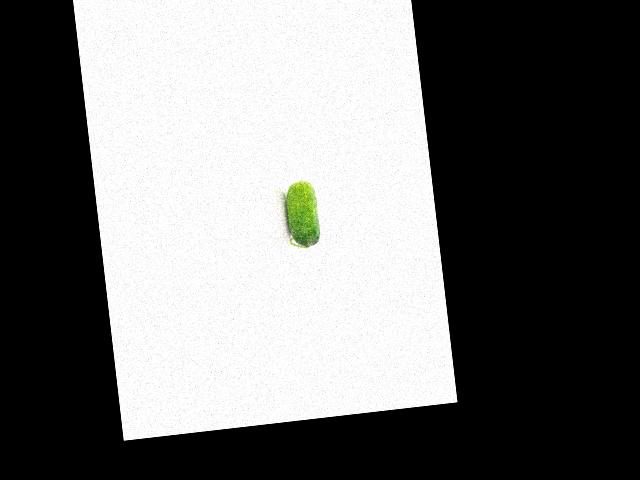cucumber: (282, 178, 321, 249)
